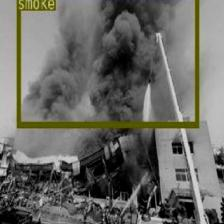smoke: (17, 0, 198, 126)
